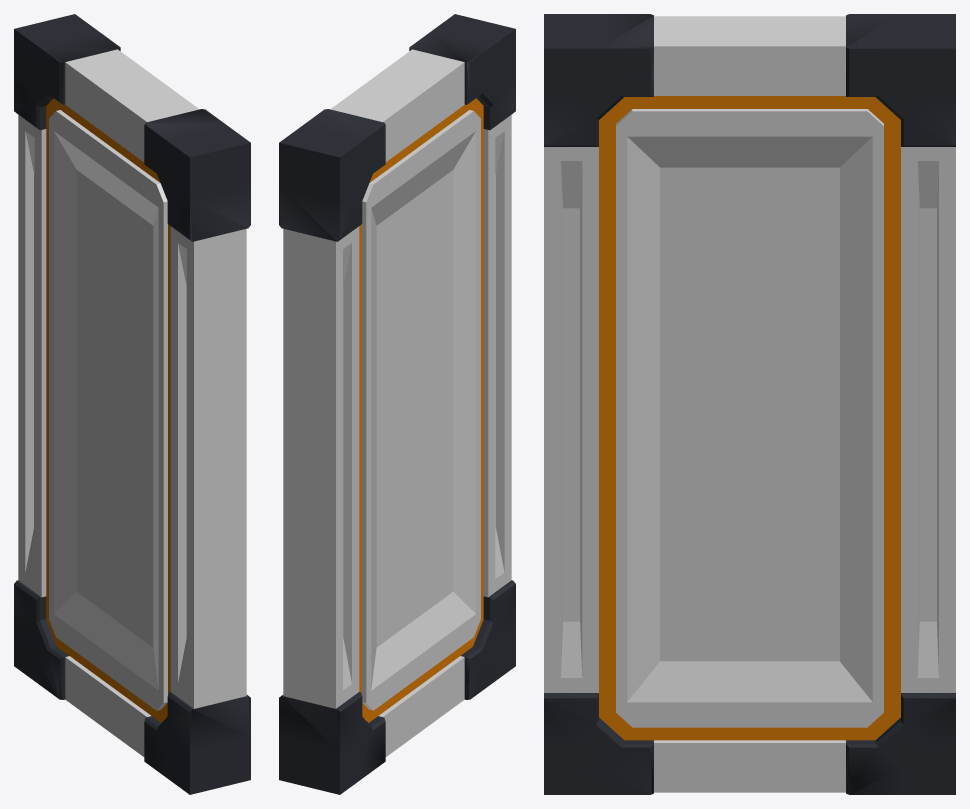
The model's file is wall_low.glb.
The picture shows the model from 3 angles, left to right: view 1: azimuth 30°, elevation 25°; view 2: azimuth 150°, elevation 25°; view 3: azimuth 270°, elevation 25°; orthographic projection. The views are drawn at different scales.
Parts seen in each view (by area): view 1: SM_WallPanel_Low_Solid; view 2: SM_WallPanel_Low_Solid; view 3: SM_WallPanel_Low_Solid.
Boxes of the visible parts, left/top/right/bottom form: SM_WallPanel_Low_Solid: left=14, top=14, right=250, bottom=794; SM_WallPanel_Low_Solid: left=279, top=14, right=515, bottom=794; SM_WallPanel_Low_Solid: left=544, top=14, right=955, bottom=794.
Size of the model in its own units: 0.2 by 2 by 1.
